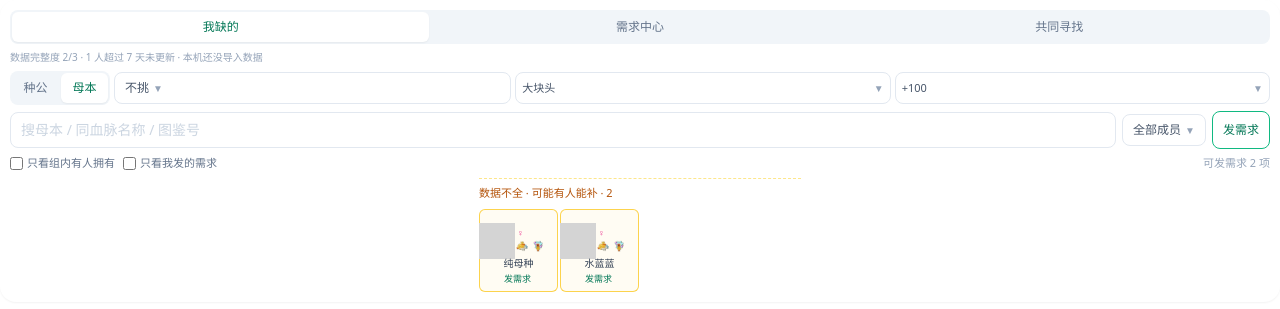
Test: MotherGroupResources 三视图 › 承接中心：没有组员发需求时给出空态提示，不再回落到旧缺口
This screenshot has width=1280, height=309.
Click the button with test id "mother-view-mine".
click(640, 27)  # box [431,12,849,42]
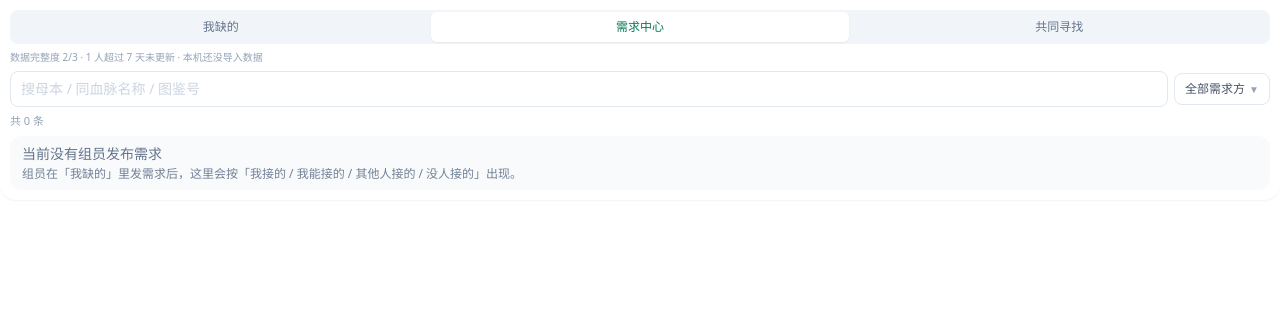
Now the message with test id "mother-intake-empty" shows "当前没有组员发布需求", box [22,144,162,162]
Now no list items with test id "mother-resource-row" are shown
